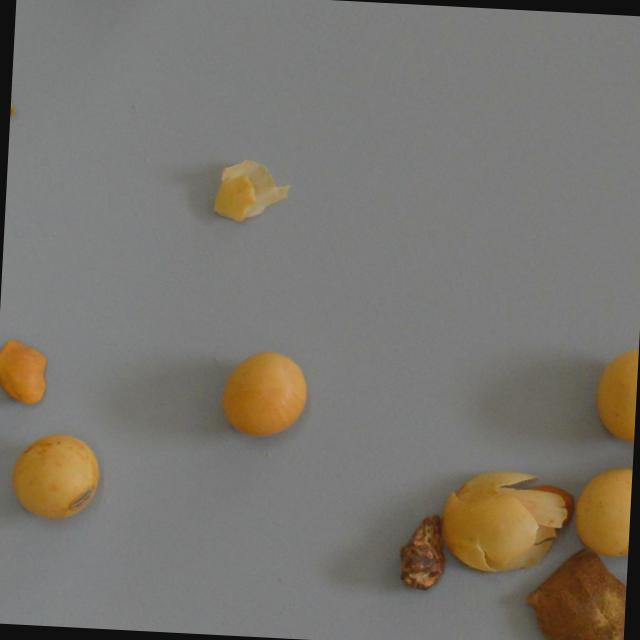cuerpos_extranos: (437, 468, 574, 579), (198, 135, 304, 244), (523, 545, 628, 640), (216, 346, 310, 445), (7, 429, 104, 523), (567, 455, 633, 563), (588, 344, 639, 451), (394, 511, 447, 592), (0, 335, 50, 408)
